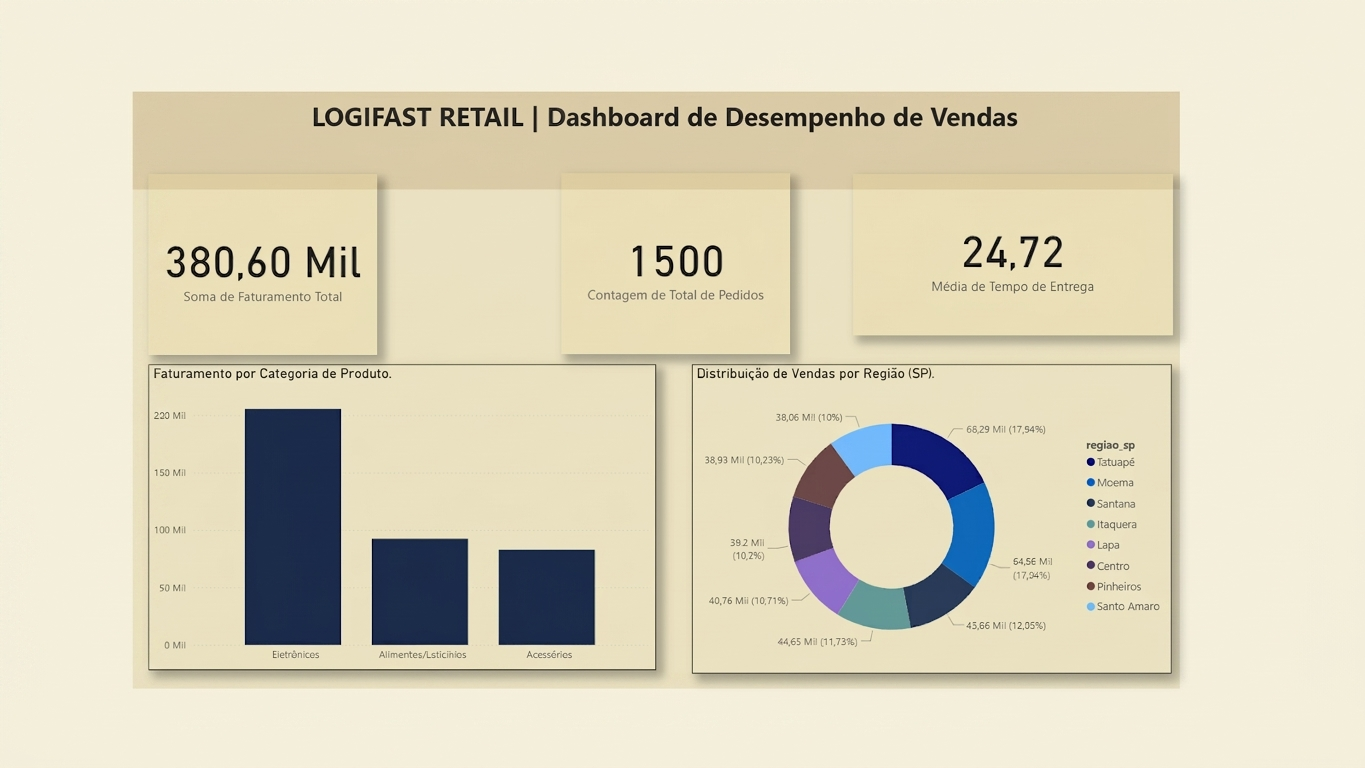

The page's visual inventory and layout, read from the dashboard file:
{"tool":"powerbi","page":{"name":"Página 1","canvas":[1280,720],"ordinal":0},"visuals":[{"type":"textbox","box":[0,0,1280,116.9],"z":0},{"type":"card","fields":{"Values":["Sum(logifast_db fato_vendas.valor_total)"]},"box":[19.3,97.7,280.2,221],"z":1000},{"type":"columnChart","title":"Faturamento por Categoria de Produto.","fields":{"Category":["logifast_db dim_produtos.categoria"],"Y":["Sum(logifast_db fato_vendas.valor_total)"]},"box":[19.3,330.3,620.7,374],"z":2000},{"type":"donutChart","title":"Distribuição de Vendas por Região (SP).","fields":{"Category":["logifast_db dim_clientes.regiao_sp"],"Y":["Sum(logifast_db fato_vendas.valor_total)"]},"box":[683.4,330.3,587.4,378.3],"z":3000},{"type":"card","fields":{"Values":["Count(logifast_db fato_vendas.pedido_id)"]},"box":[523.4,97.1,280,220.6],"z":5000},{"type":"card","fields":{"Values":["Avg(logifast_db fato_vendas.tempo_entrega_horas)"]},"box":[880.3,97.7,390.7,196.6],"z":6000}]}

Visuals, with their boxes in screenshot pixels (x1, y1, x2, y2), scaled from the page's 1280x720 canvas onto the 1365x768 screenshot:
textbox: box=[0, 0, 1364, 125]
card - Sum(logifast_db fato_vendas.valor_total): box=[21, 104, 319, 340]
"Faturamento por Categoria de Produto." columnChart: box=[21, 352, 682, 751]
"Distribuição de Vendas por Região (SP)." donutChart: box=[729, 352, 1355, 756]
card - Count(logifast_db fato_vendas.pedido_id): box=[558, 104, 857, 339]
card - Avg(logifast_db fato_vendas.tempo_entrega_horas): box=[939, 104, 1355, 314]
